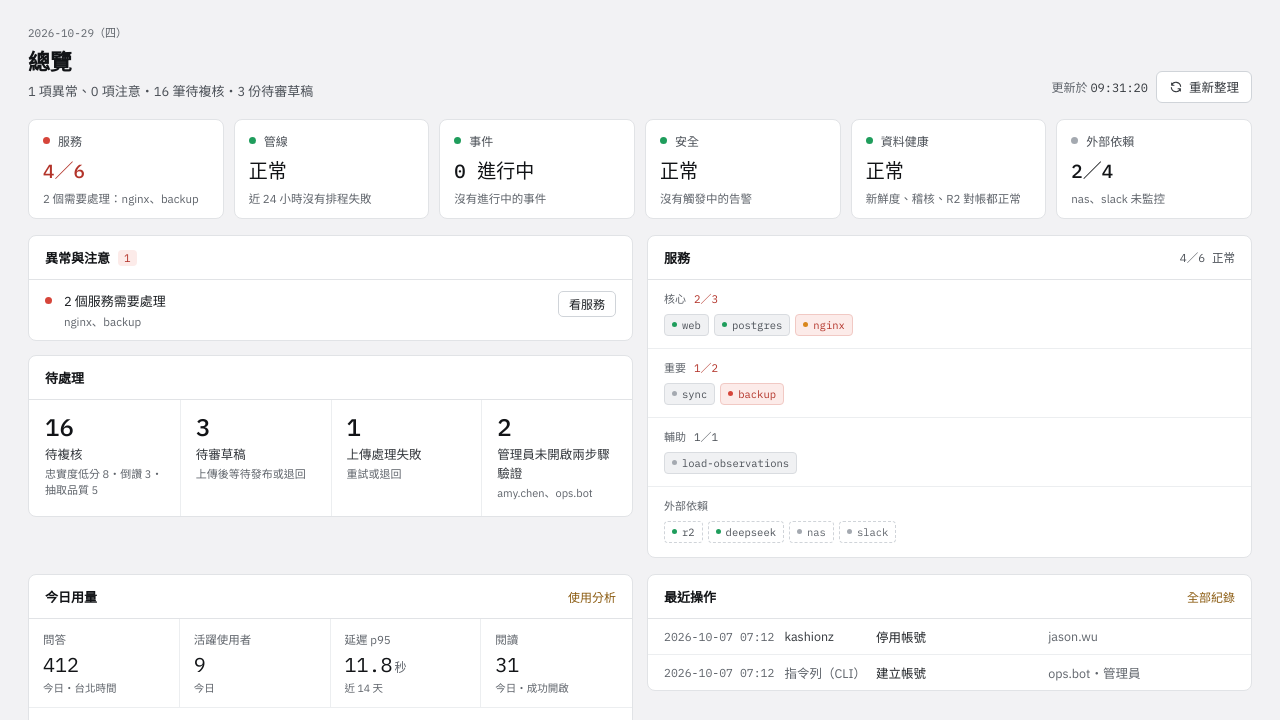
it: 頁首：日期 kicker、H1、更新時間；重新整理把這一頁的資料重取一次
Check: the heading "總覽" is shown, box [28,47,72,76]
Check: the text "2026-10-29（四）" is shown, box [28,26,127,40]
Click the button "重新整理": (1204, 87) [1156,71,1252,103]
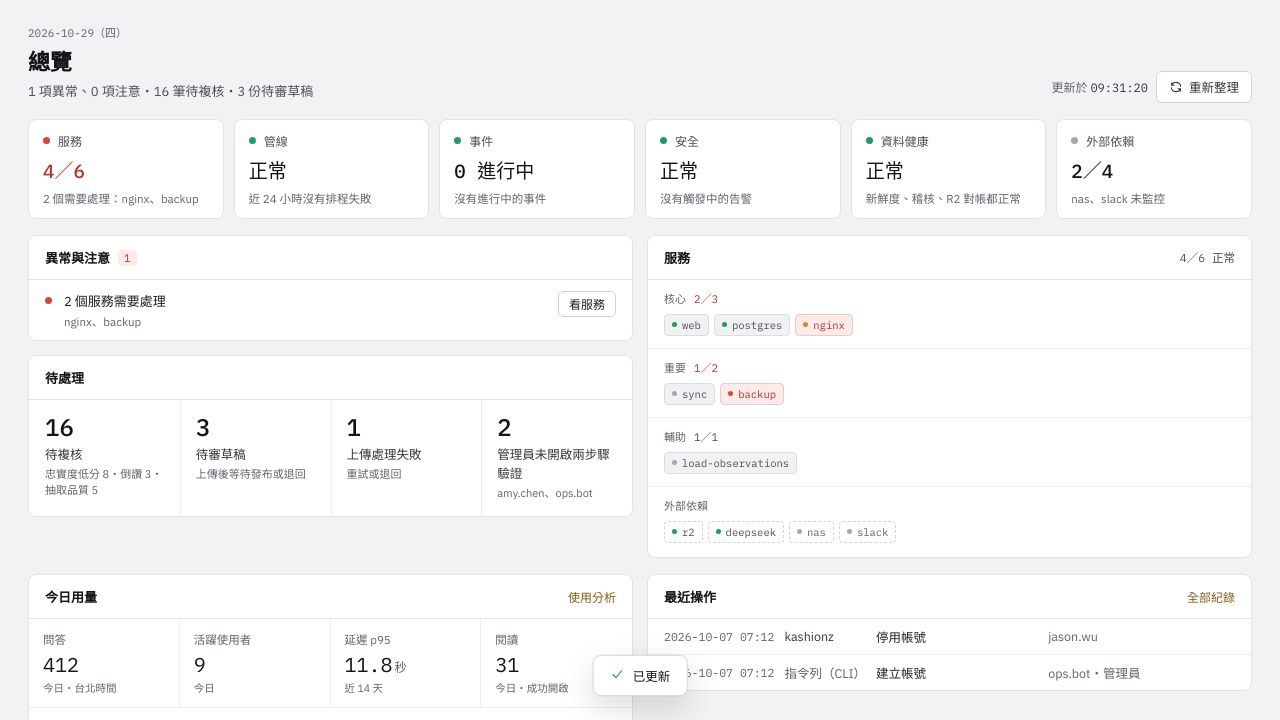
Check: the text "已更新" is shown, box [593,655,687,696]
